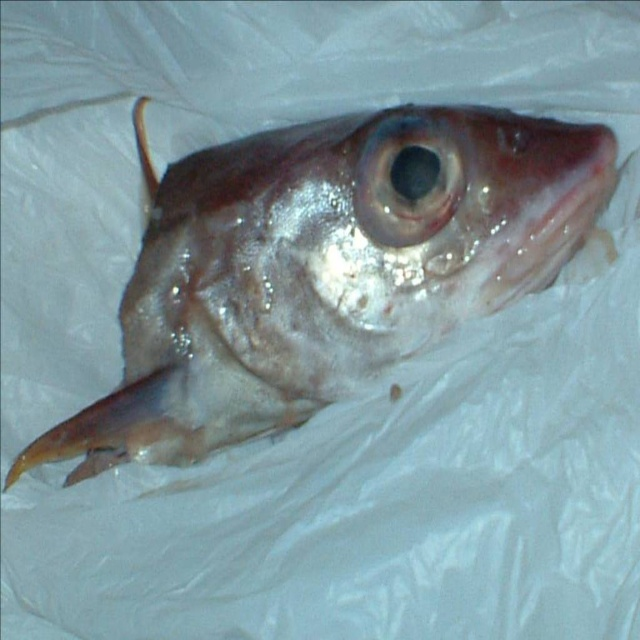Fish: (0, 95, 620, 496)
